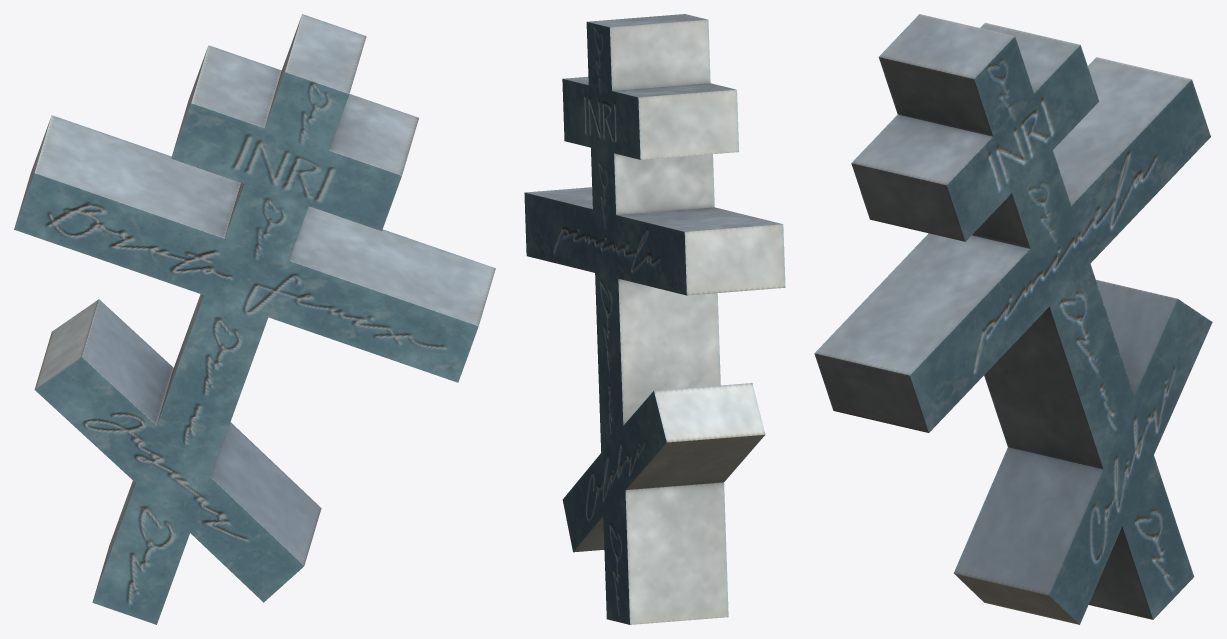
3 renders of one model, left to right at view 1: azimuth 30°, elevation 25°; view 2: azimuth 150°, elevation 25°; view 3: azimuth 270°, elevation 25°, orthographic. The views are drawn at different scales.
Parts seen in each view (by area): view 1: Cruz_Orto_Cube.011; view 2: Cruz_Orto_Cube.011; view 3: Cruz_Orto_Cube.011.
Part boxes in pixels (box(x1,y1,x2,y2)): Cruz_Orto_Cube.011: box(14, 14, 495, 624); Cruz_Orto_Cube.011: box(524, 14, 785, 624); Cruz_Orto_Cube.011: box(814, 14, 1212, 624).
Size of the model in its own units: 1.82 by 2.69 by 1.55.
